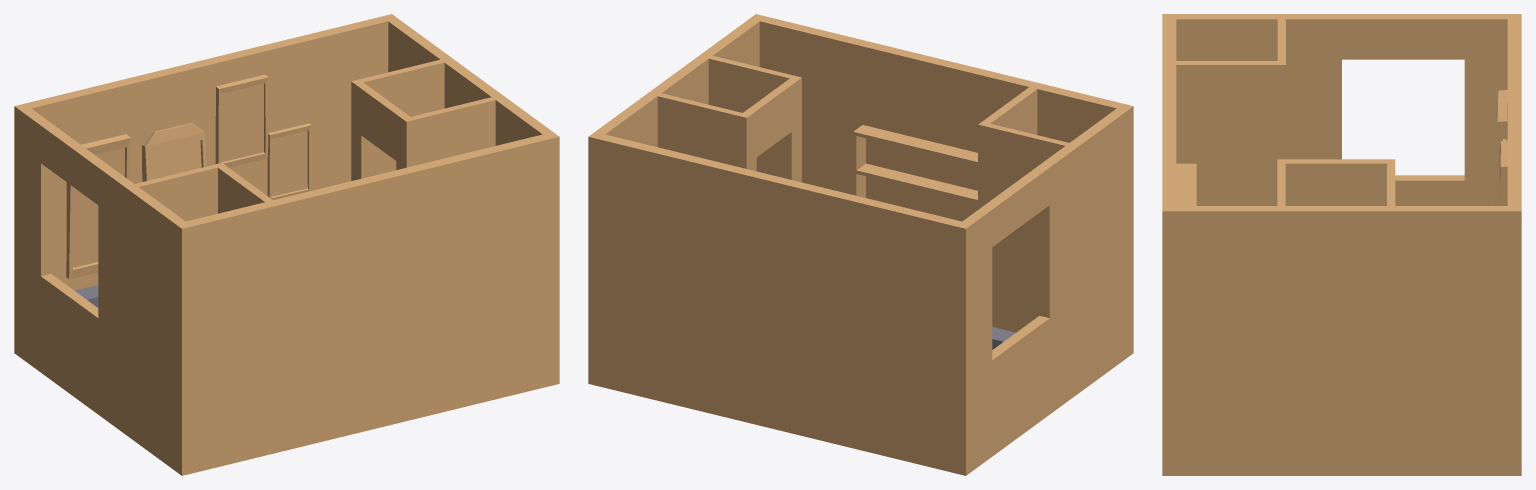
The model's file is S_Lounge_Furnished.glb.
3 views of the same model, side by side, from view 1: azimuth 30°, elevation 25°; view 2: azimuth 150°, elevation 25°; view 3: azimuth 270°, elevation 25° (orthographic). The views are drawn at different scales.
Visible parts, largest first — view 1: Cube.030; view 2: Cube.030; view 3: Cube.030.
Boxes of the visible parts, bbox=[...] form: Cube.030: bbox=[14, 14, 559, 475]; Cube.030: bbox=[588, 14, 1133, 475]; Cube.030: bbox=[1162, 14, 1521, 475].
Bounding box in the file's own units: 4.23 × 2.67 × 3.25.
